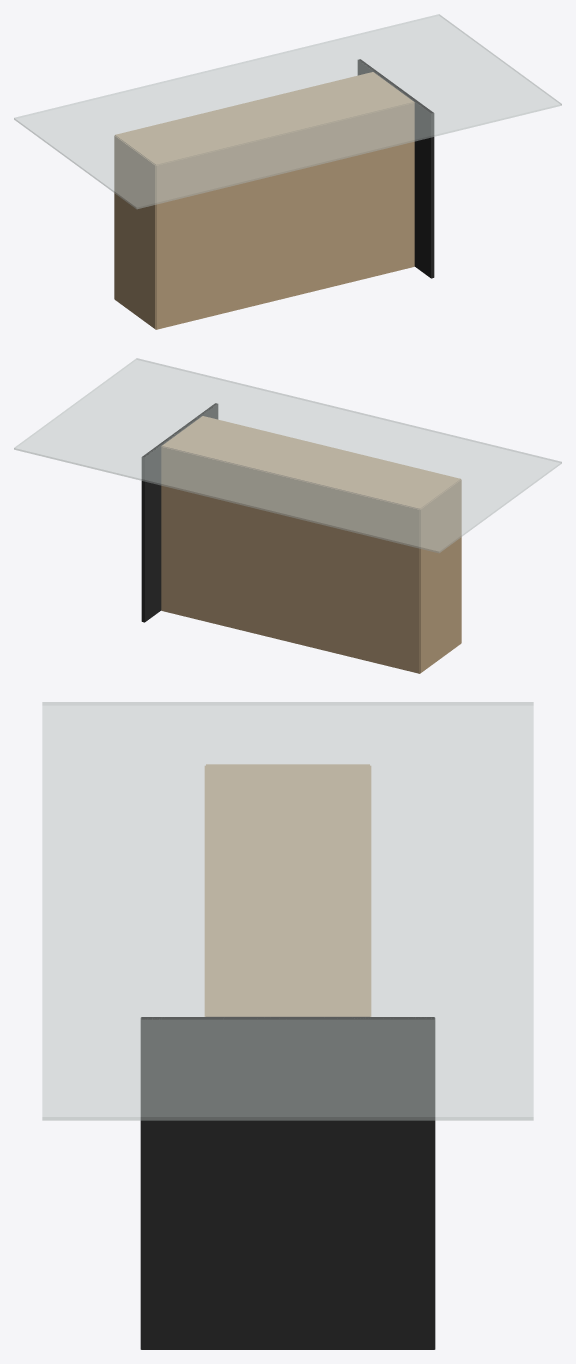
3 renders of one model, top to bottom at view 1: azimuth 30°, elevation 25°; view 2: azimuth 150°, elevation 25°; view 3: azimuth 270°, elevation 25°, orthographic. The views are drawn at different scales.
Parts seen in each view (by area): view 1: halved-dining-table; view 2: halved-dining-table; view 3: halved-dining-table.
Part boxes in pixels (x1,y1,x2,y2): halved-dining-table: (14,14,561,329); halved-dining-table: (14,358,561,673); halved-dining-table: (42,702,533,1349).
Size of the model in its own units: 2 by 0.7501 by 1.
